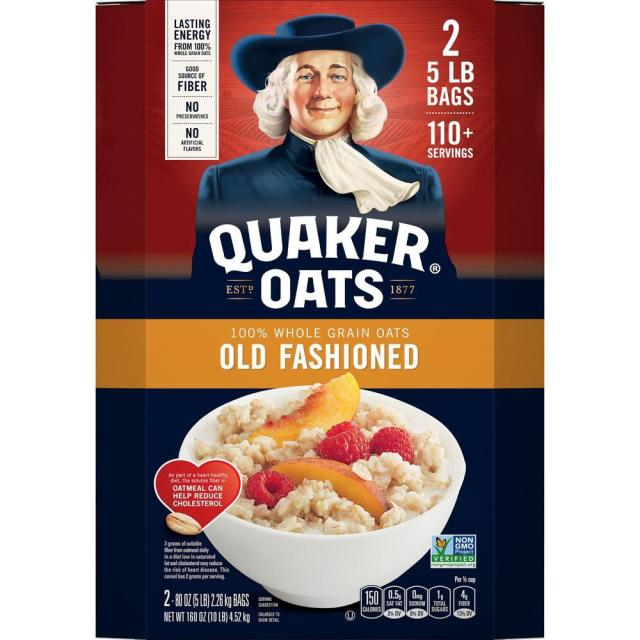food-package: (99, 5, 539, 630)
